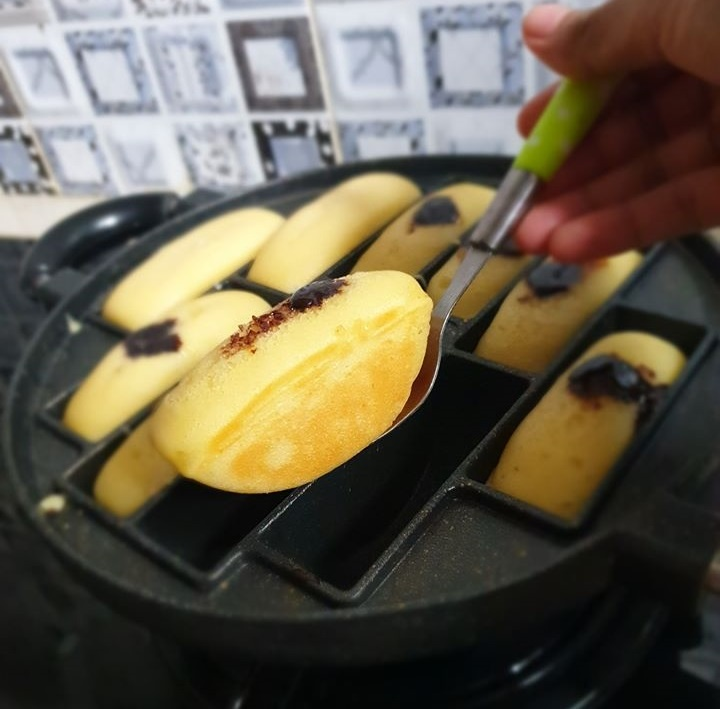pukis: (101, 274, 456, 495)
